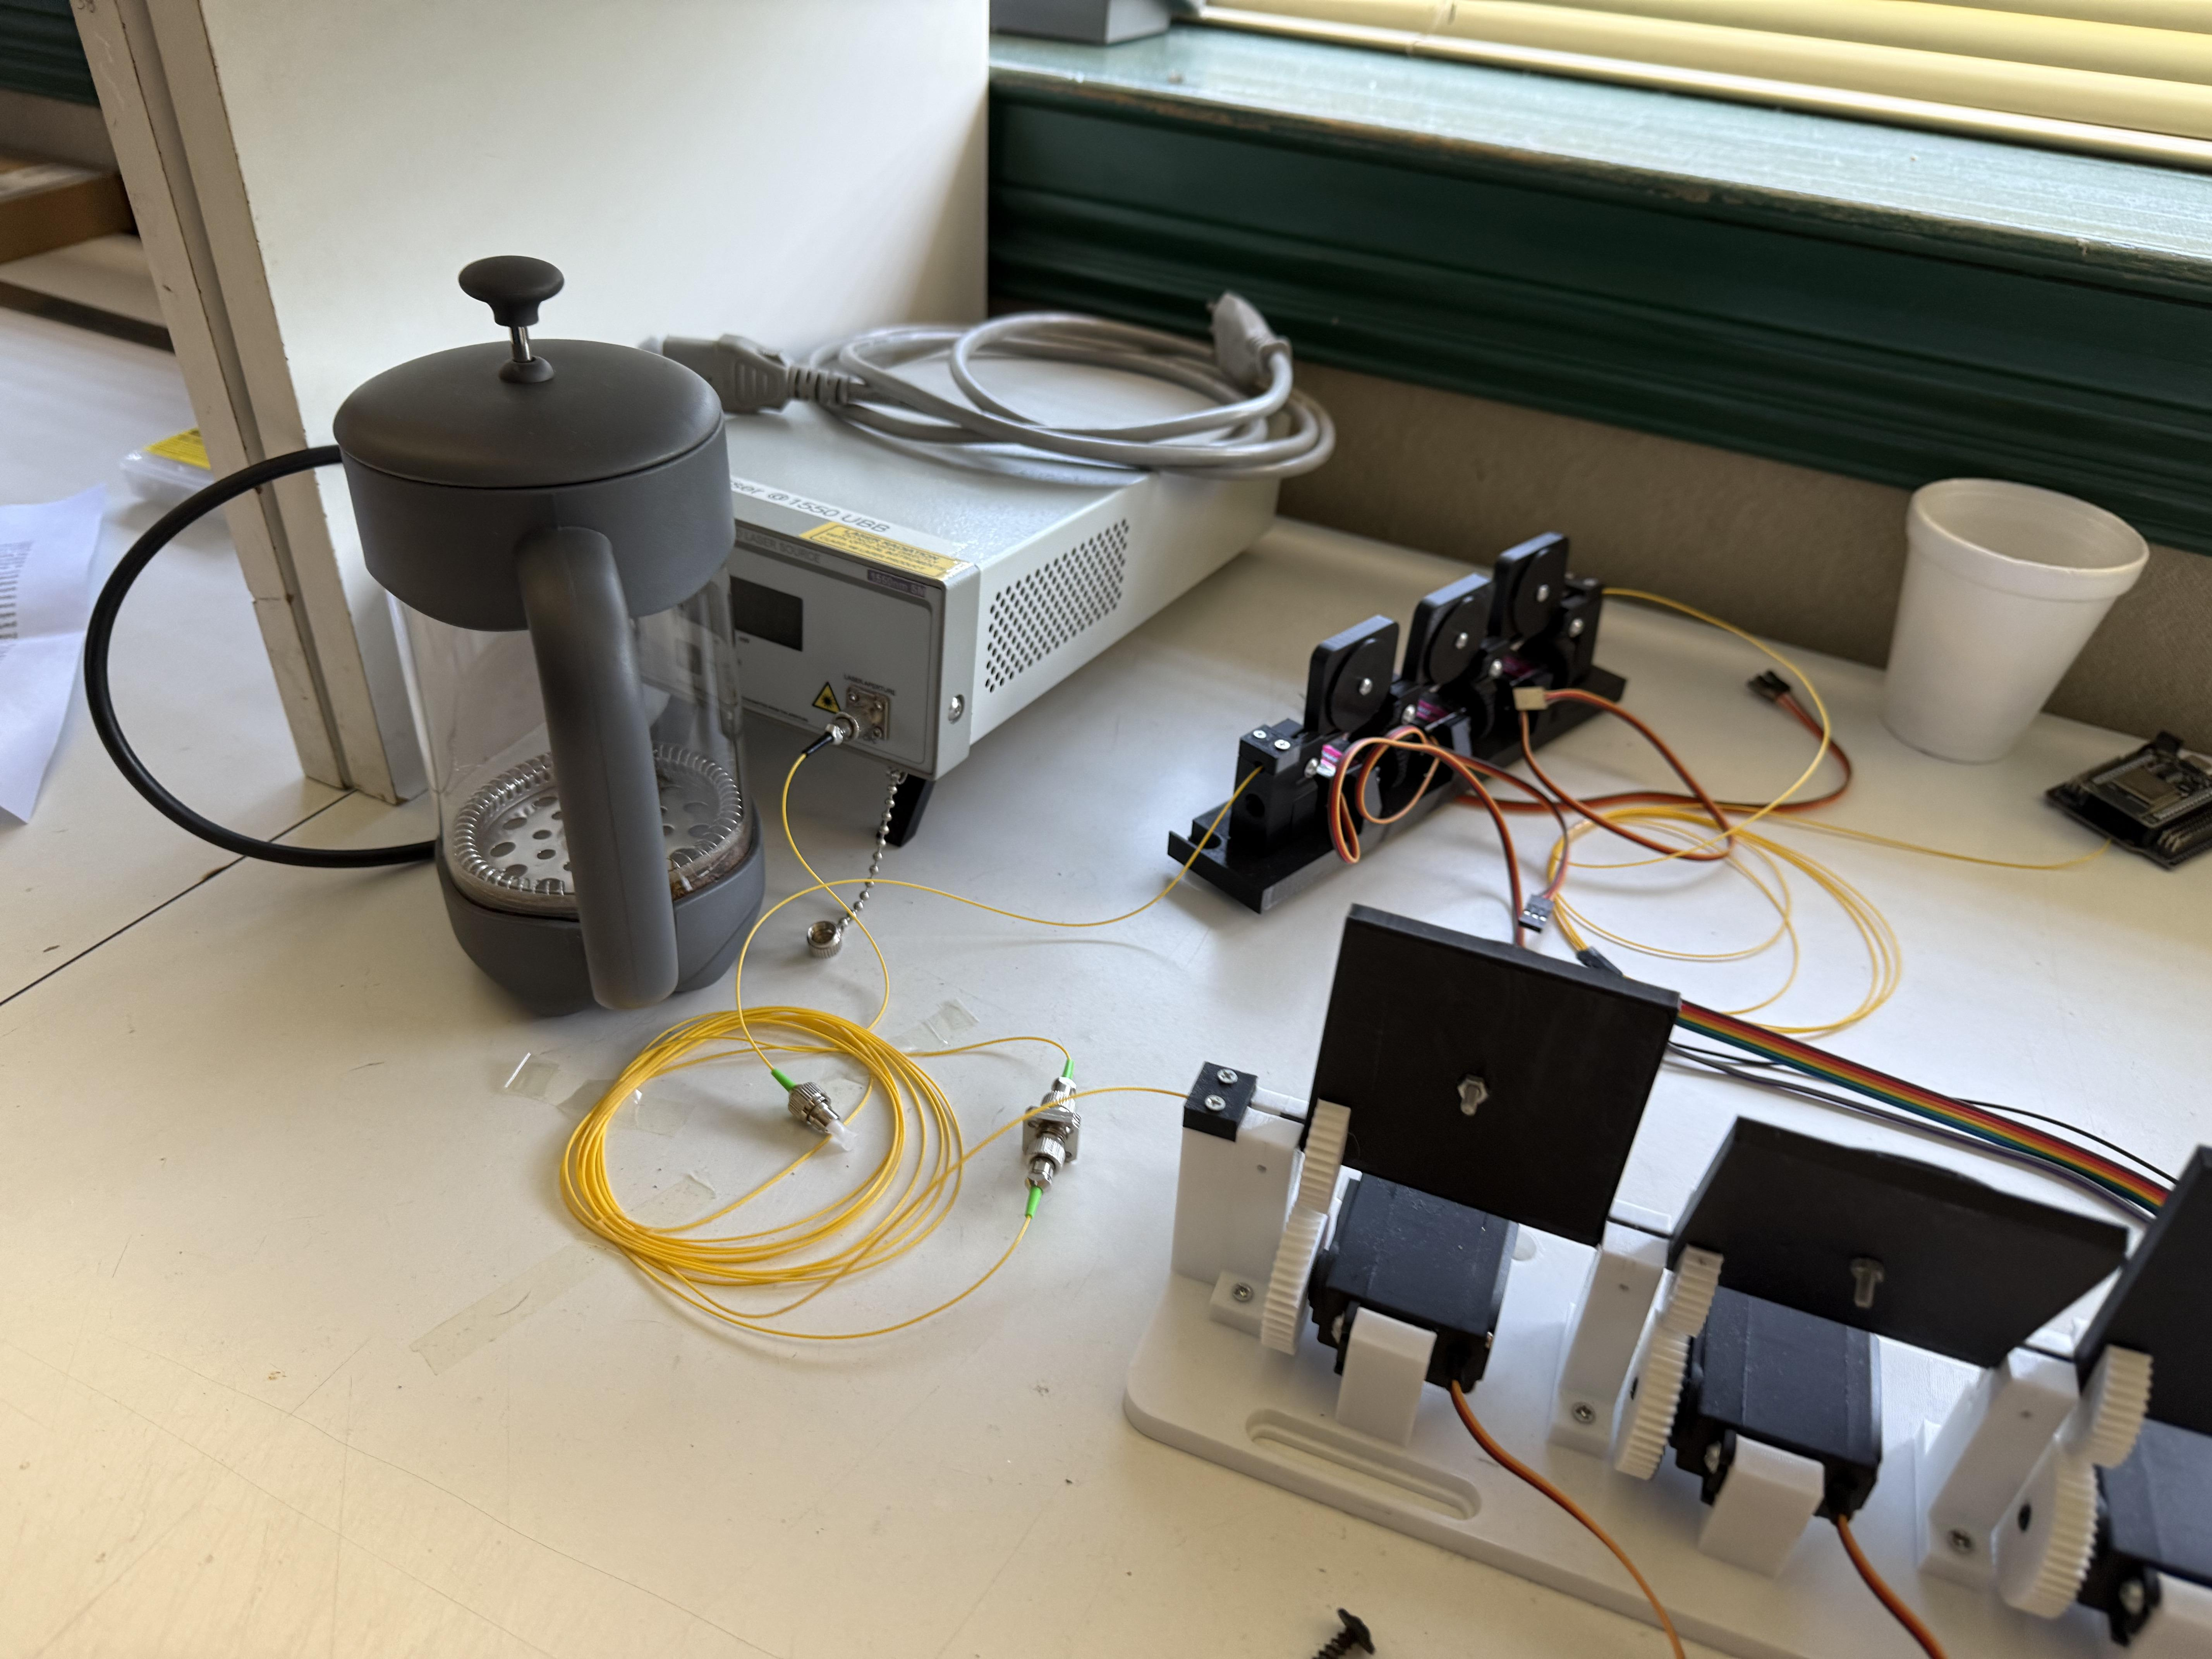fiber_cable: (535, 964, 1094, 1406)
laser: (535, 293, 1318, 878)
paddle_polarization_controller: (1043, 871, 2212, 1659), (1115, 477, 1663, 955)
